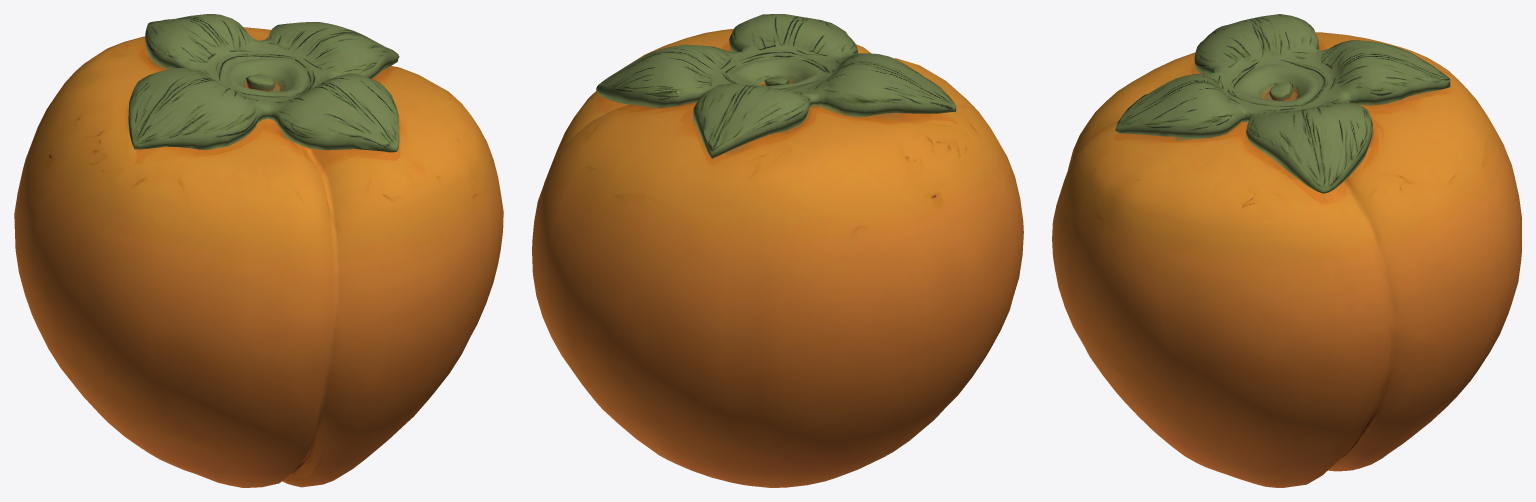
File: persimmon.glb
The picture shows the model from 3 angles, left to right: view 1: azimuth 30°, elevation 25°; view 2: azimuth 150°, elevation 25°; view 3: azimuth 270°, elevation 25°; orthographic projection. The views are drawn at different scales.
Visible parts, largest first — view 1: Isolated Persimmon Fruit; view 2: Isolated Persimmon Fruit; view 3: Isolated Persimmon Fruit.
Part boxes in pixels (<box>): Isolated Persimmon Fruit: <box>14,14,503,487</box>; Isolated Persimmon Fruit: <box>532,14,1023,487</box>; Isolated Persimmon Fruit: <box>1052,14,1521,487</box>.
Bounding box in the file's own units: 0.998 × 0.9434 × 0.998.
Materials: 1 (1 with a texture image).
